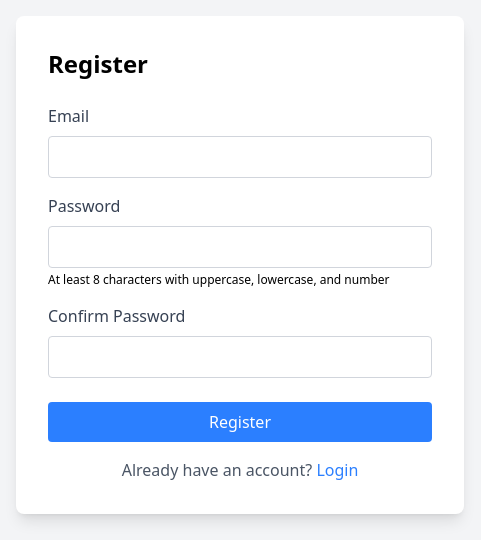
it: RegisterPage › should register successfully with valid credentials
The image size is (481, 540).
// Type credentials
Type "test@example.com" into the field labelled "Email" at (240, 157), box [48,136,432,178]
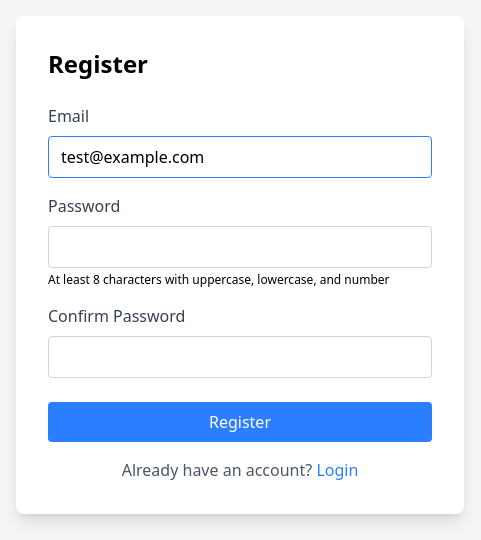
Type "Test1234!" into the password field labelled "Password" at (240, 247), box [48,226,432,268]
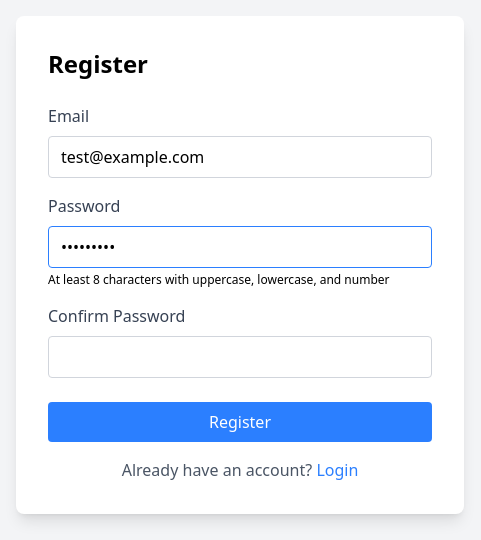
Type "Test1234!" into the password field labelled "Confirm Password" at (240, 357), box [48,336,432,378]
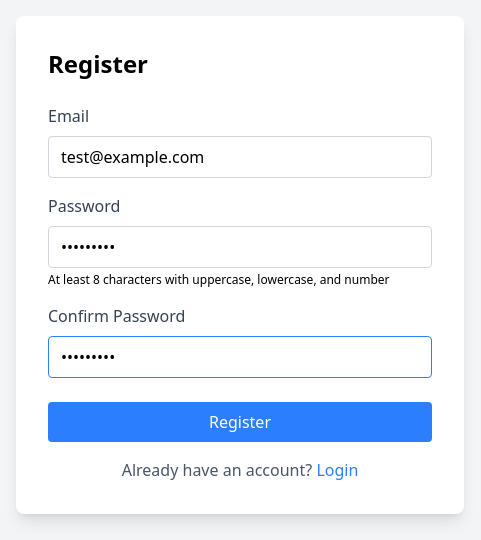
// Click register
Click the button "Register" at (240, 422), box [48,402,432,442]
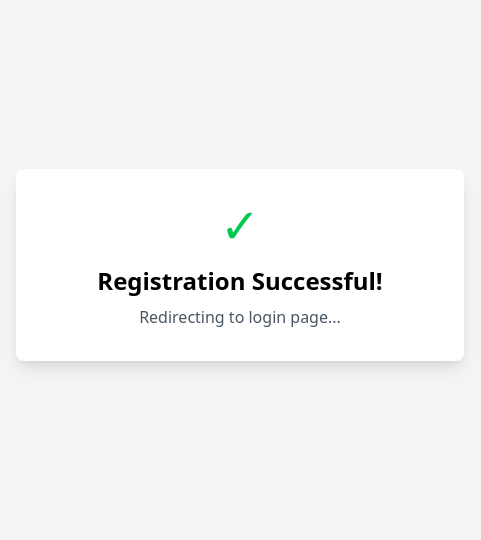
Expected: the heading "Registration Successful!" is shown, [97,264,383,297]
